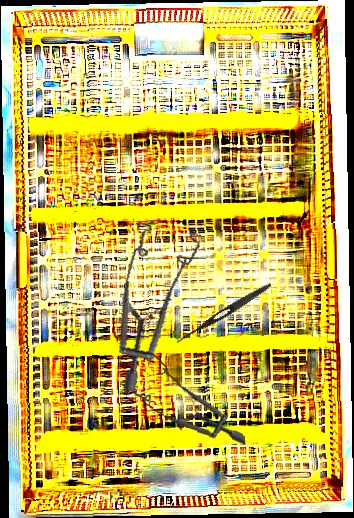Dressing Forceps: (174, 280, 274, 347)
Speculum: (88, 209, 232, 394), (123, 349, 252, 445)
